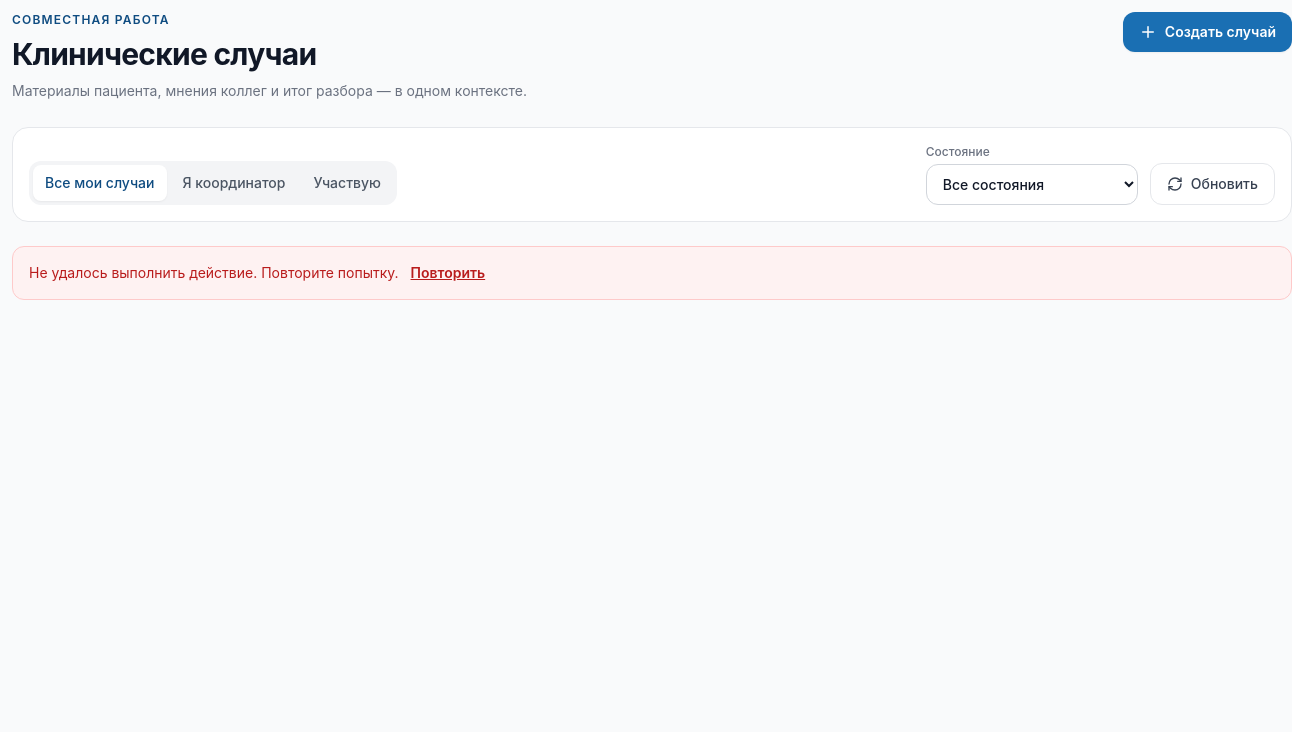
Test: offers a retry after failure without claiming that there are no cases
This screenshot has width=1292, height=732.
Expected: the message "Не удалось выполнить действие. Повторите попытку. Повторить" is shown, [12, 246, 1291, 300]
Expected: the text "Начните первый совместный разбор" is not shown
Step 1. Click the button "Повторить" → (448, 273), box [410, 263, 485, 283]
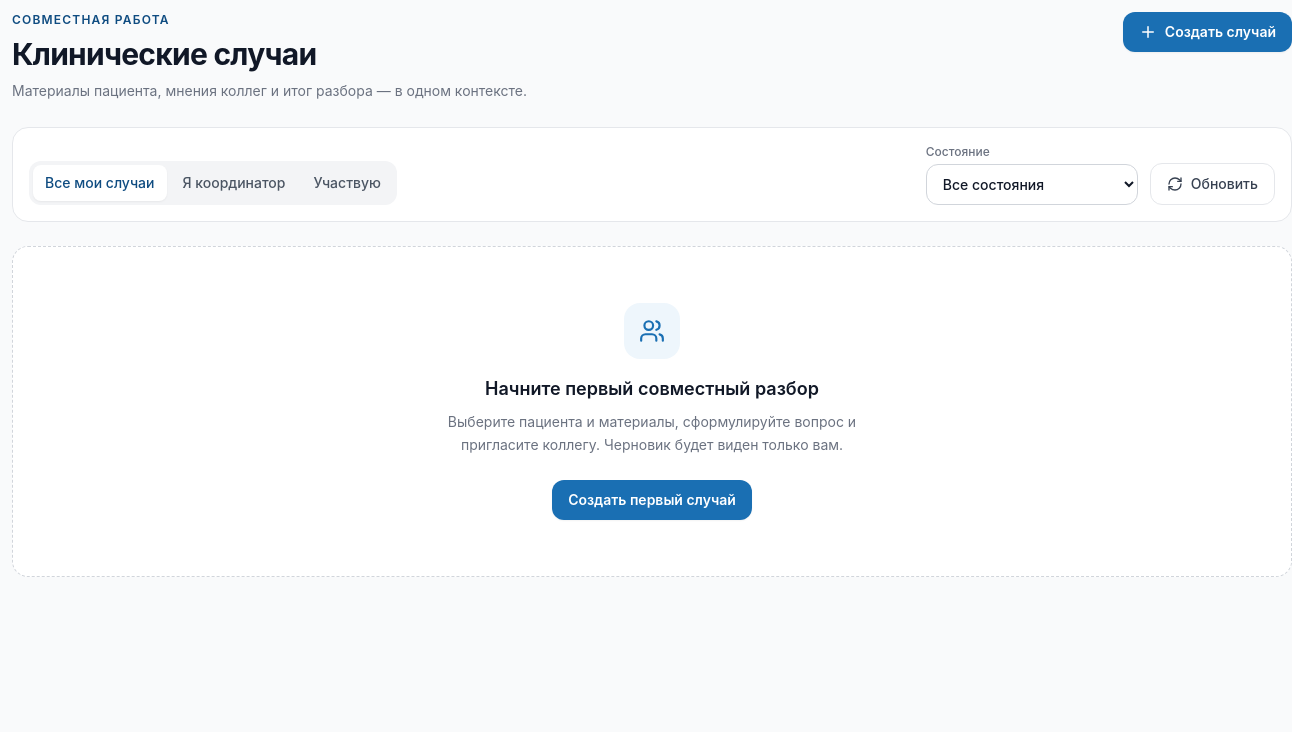
Expected: the heading "Начните первый совместный разбор" is shown, [485, 378, 819, 399]
